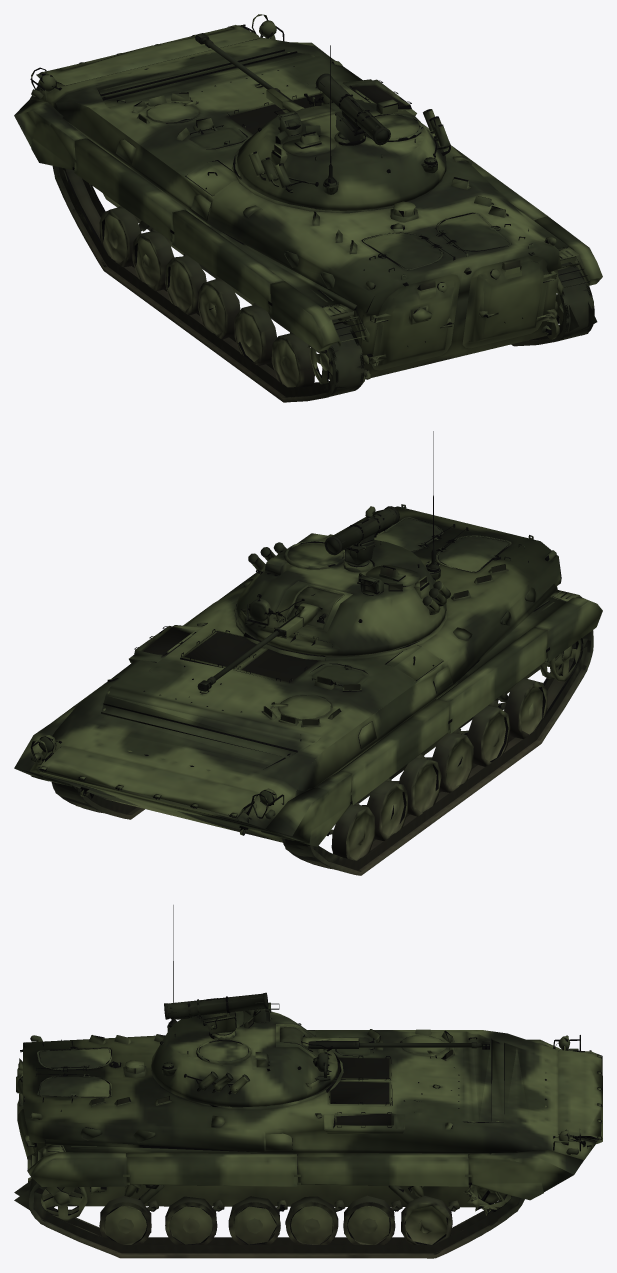
File: bmp2.glb
3 views of the same model, one above another, from view 1: azimuth 30°, elevation 25°; view 2: azimuth 150°, elevation 25°; view 3: azimuth 270°, elevation 25° (orthographic). The views are drawn at different scales.
Visible parts, largest first — view 1: hull, turret, barrel; view 2: hull, turret, barrel; view 3: hull, turret, barrel.
Boxes of the visible parts, x1=… form: hull: x1=14, y1=14, x2=602, y2=402; turret: x1=236, y1=45, x2=450, y2=210; barrel: x1=195, y1=33, x2=296, y2=109; hull: x1=14, y1=504, x2=602, y2=875; turret: x1=236, y1=431, x2=450, y2=655; barrel: x1=197, y1=611, x2=303, y2=691; hull: x1=14, y1=1029, x2=602, y2=1258; turret: x1=151, y1=905, x2=337, y2=1107; barrel: x1=308, y1=1038, x2=489, y2=1049.
Size of the model in its own units: 3.22 by 3.5 by 6.75.
1 material, 1 textured.
